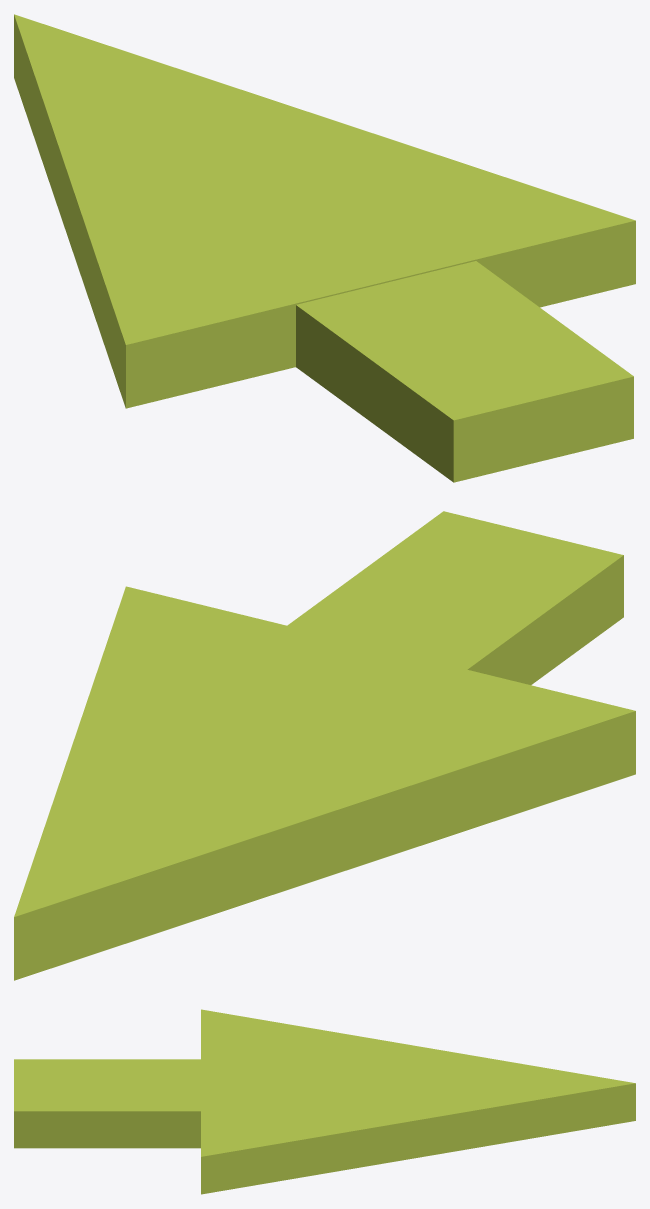
The model's file is asset.glb.
3 renders of one model, top to bottom at view 1: azimuth 30°, elevation 25°; view 2: azimuth 150°, elevation 25°; view 3: azimuth 270°, elevation 25°, orthographic. The views are drawn at different scales.
Size of the model in its own units: 0.1181 by 0.0141 by 0.2104.
